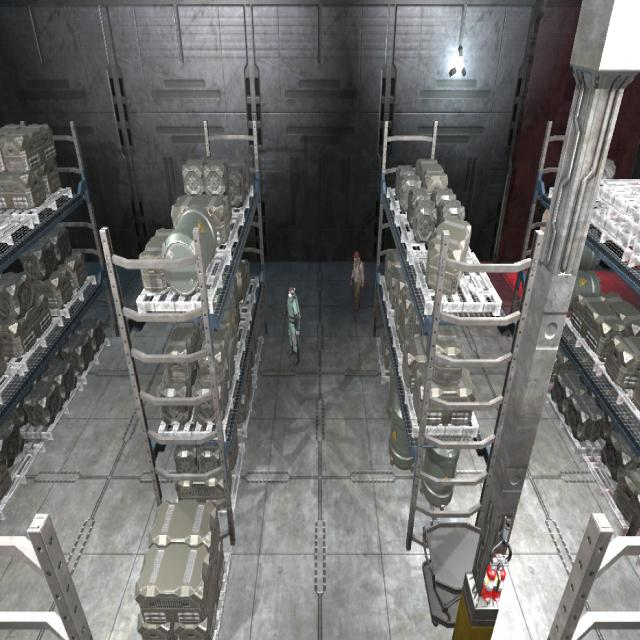thiefs: (349, 250, 366, 318)
